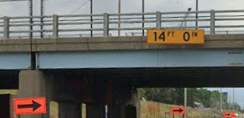0: (180, 29, 190, 42)
1: (151, 29, 157, 42)
4: (157, 29, 166, 43)
overheadsign: (145, 27, 205, 46)
